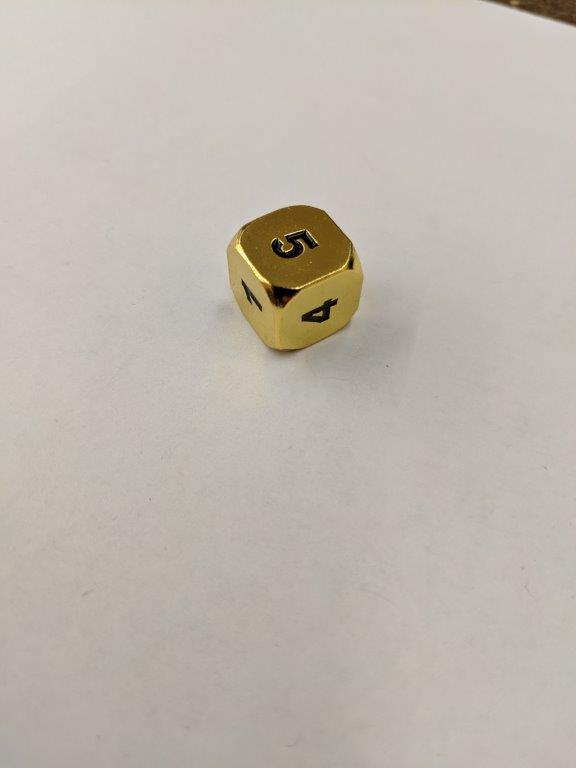d6-5: (225, 204, 367, 358)
